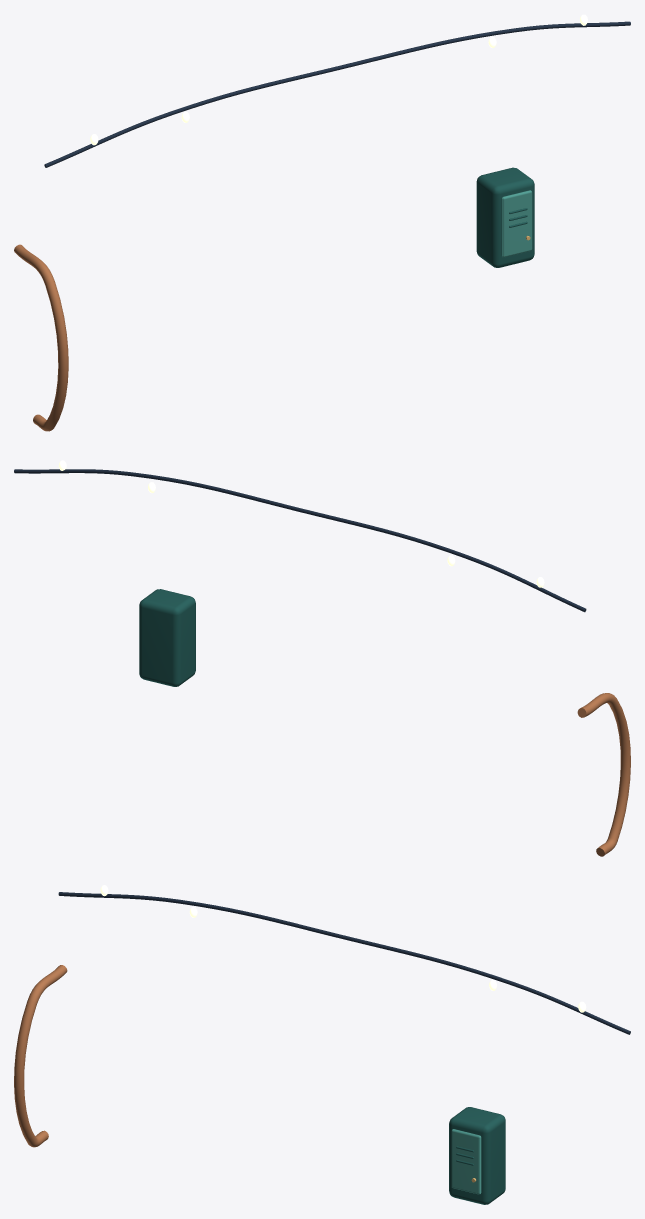
File: service_cables.glb
The picture shows the model from 3 angles, top to bottom: view 1: azimuth 30°, elevation 25°; view 2: azimuth 150°, elevation 25°; view 3: azimuth 330°, elevation 25°; orthographic projection. The views are drawn at different scales.
Visible parts, largest first — view 1: service_cables_mesh; view 2: service_cables_mesh; view 3: service_cables_mesh.
Part boxes in pixels (box(x1,y1,x2,y2)): service_cables_mesh: box(14, 14, 630, 431); service_cables_mesh: box(14, 460, 630, 856); service_cables_mesh: box(14, 885, 630, 1204).
Size of the model in its own units: 8.23 by 3.71 by 1.14.
